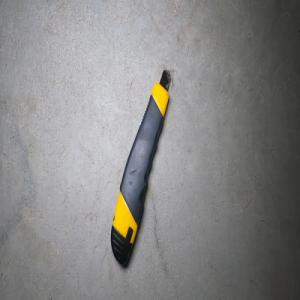Cutter: (110, 70, 172, 265)
